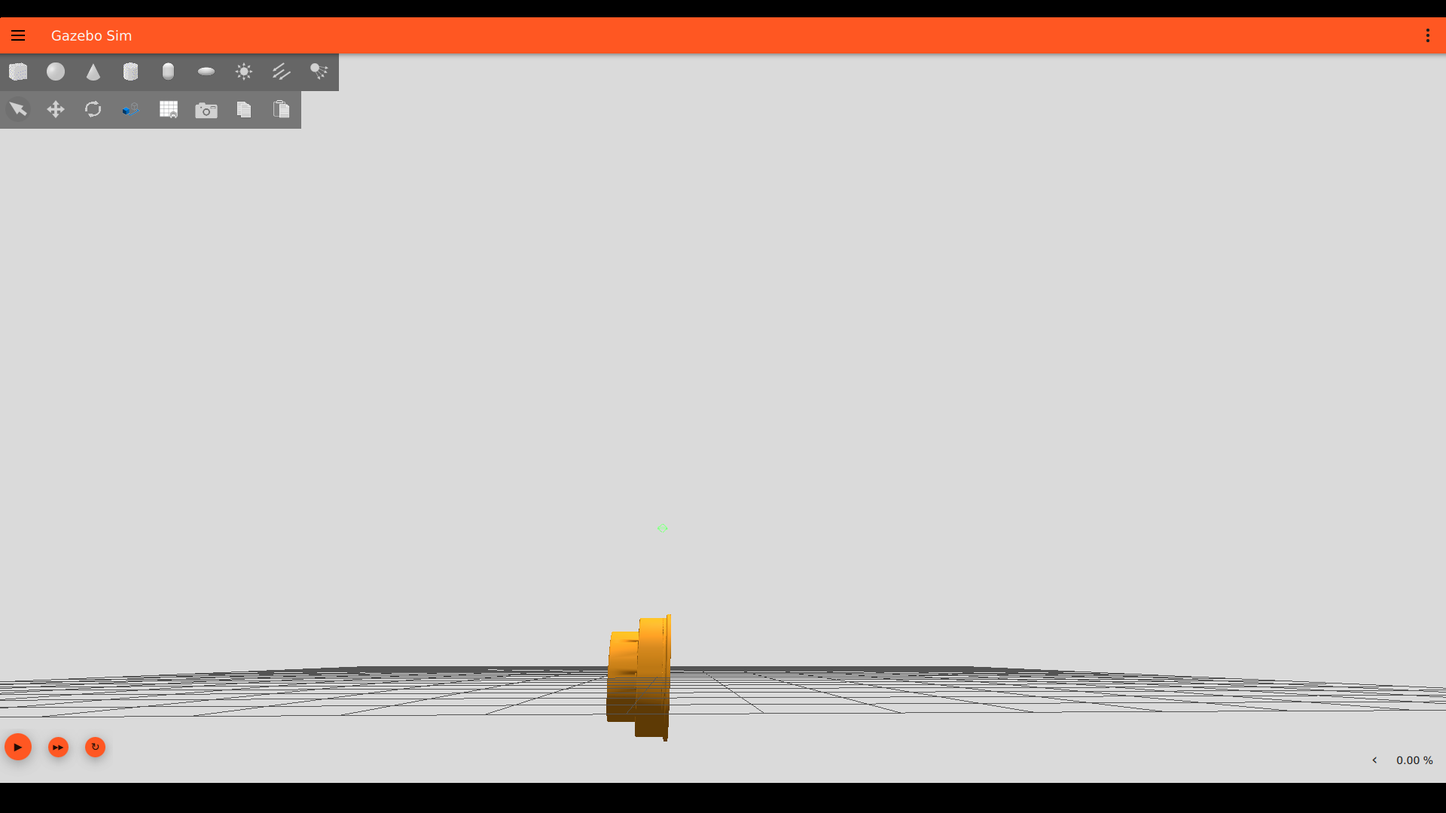valve: (596, 611, 680, 747)
